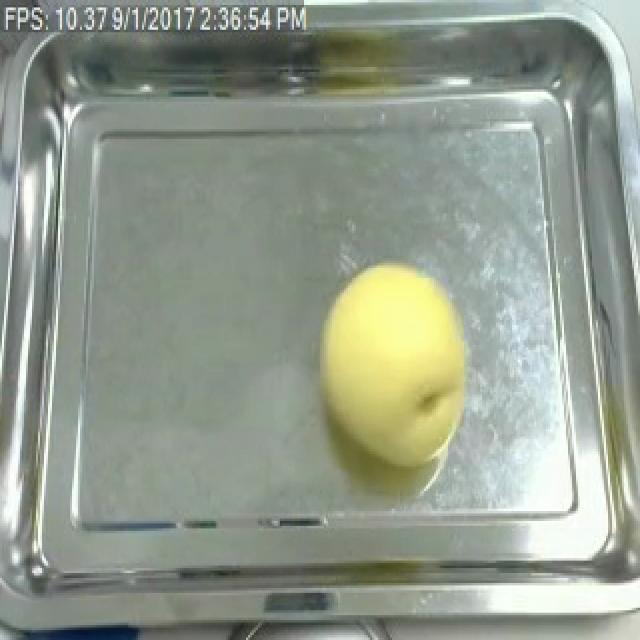Fruit: (306, 248, 480, 474)
